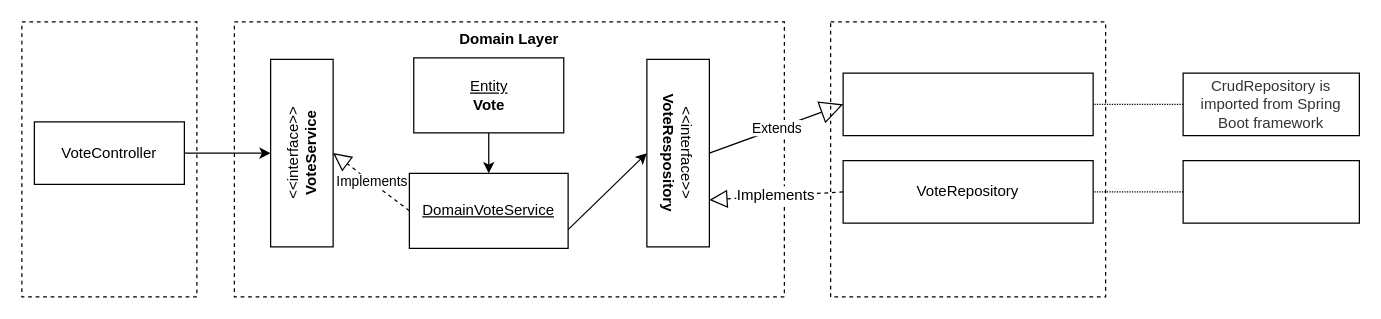
The diagram is 1381 pixels wide and 319 high, and some of its shapes have lost their labels. The shapes that lost their labels are listed below. From the top down, each one's box as (x1, y1, x2, y2) in pixels, then its label:
(842, 72, 1093, 136): CrudRepository
(21, 21, 197, 297): Application Layer
(829, 21, 1106, 297): Infrastructure Layer
(1182, 159, 1359, 223): Spring Data JPA creates an implementation of VoteRepository
